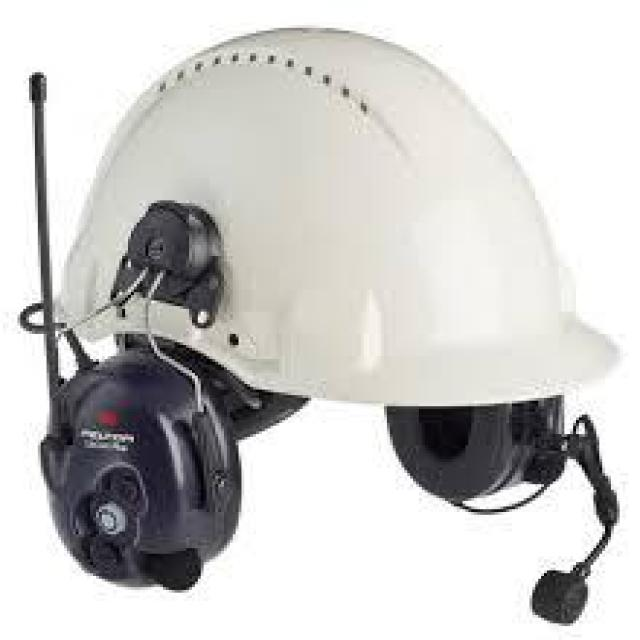Ear-protection: (29, 169, 580, 552)
